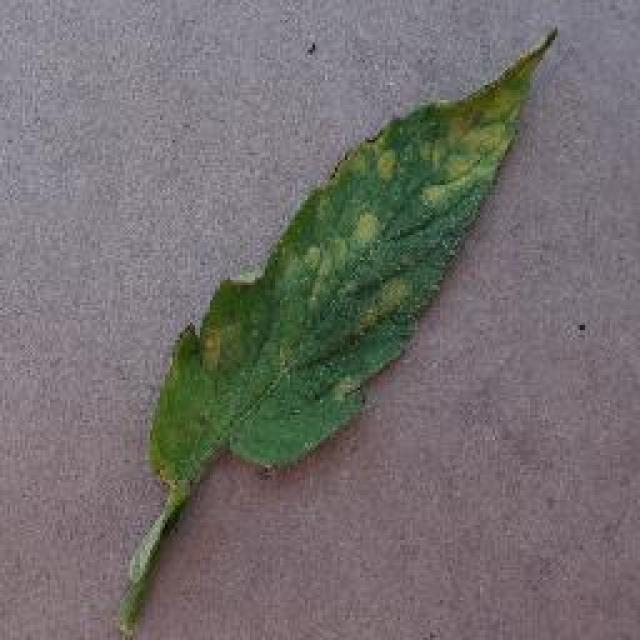Tomato mold leaf: (154, 28, 548, 492)
